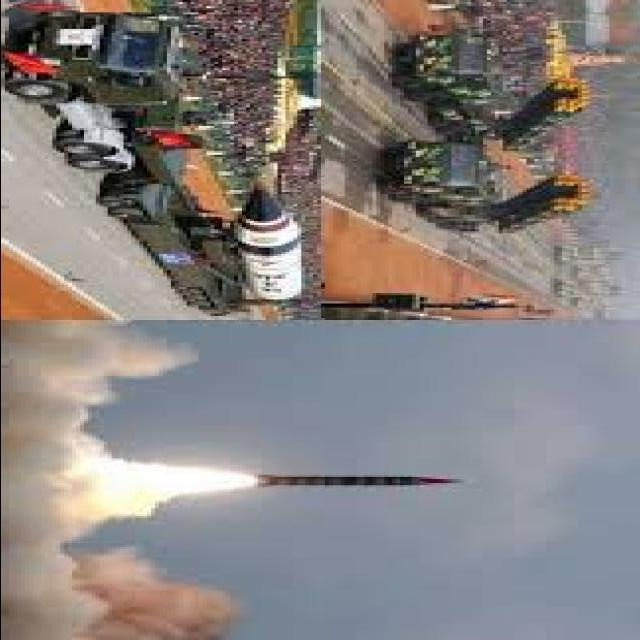Missile: (232, 186, 315, 302), (252, 474, 462, 491)
